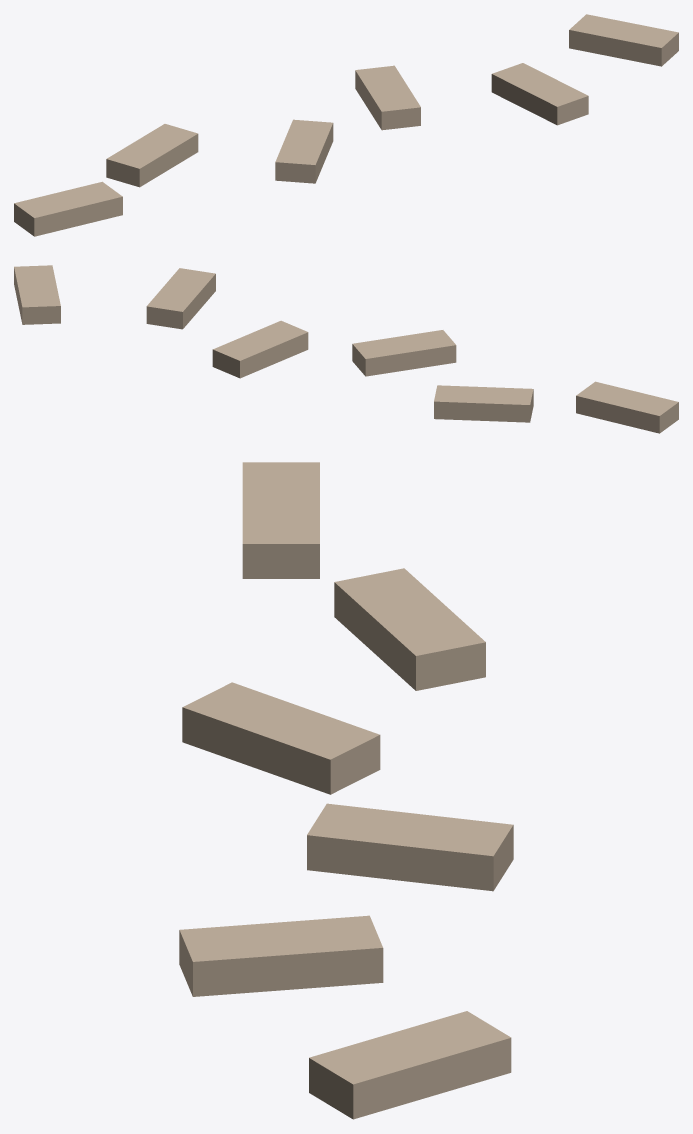
File: Log_Fallen_Used.fbx
3 renders of one model, top to bottom at view 1: azimuth 30°, elevation 25°; view 2: azimuth 150°, elevation 25°; view 3: azimuth 270°, elevation 25°, orthographic. The views are drawn at different scales.
Visible parts, largest first — view 1: Res_Log_Fallen_Used; view 2: Res_Log_Fallen_Used; view 3: Res_Log_Fallen_Used.
Part boxes in pixels (<box>): Res_Log_Fallen_Used: <box>14,14,678,236</box>; Res_Log_Fallen_Used: <box>14,265,678,433</box>; Res_Log_Fallen_Used: <box>179,462,513,1119</box>.
Size of the model in its own units: 2.29 by 0.06 by 0.5186.
